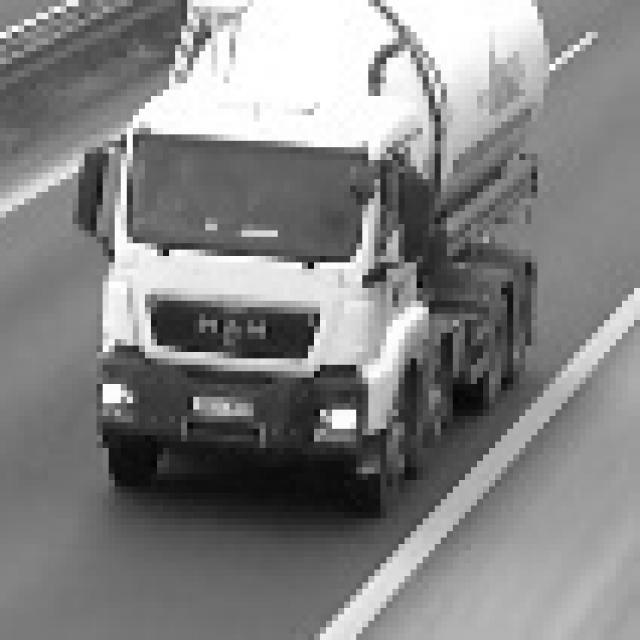truck: (80, 61, 455, 507)
